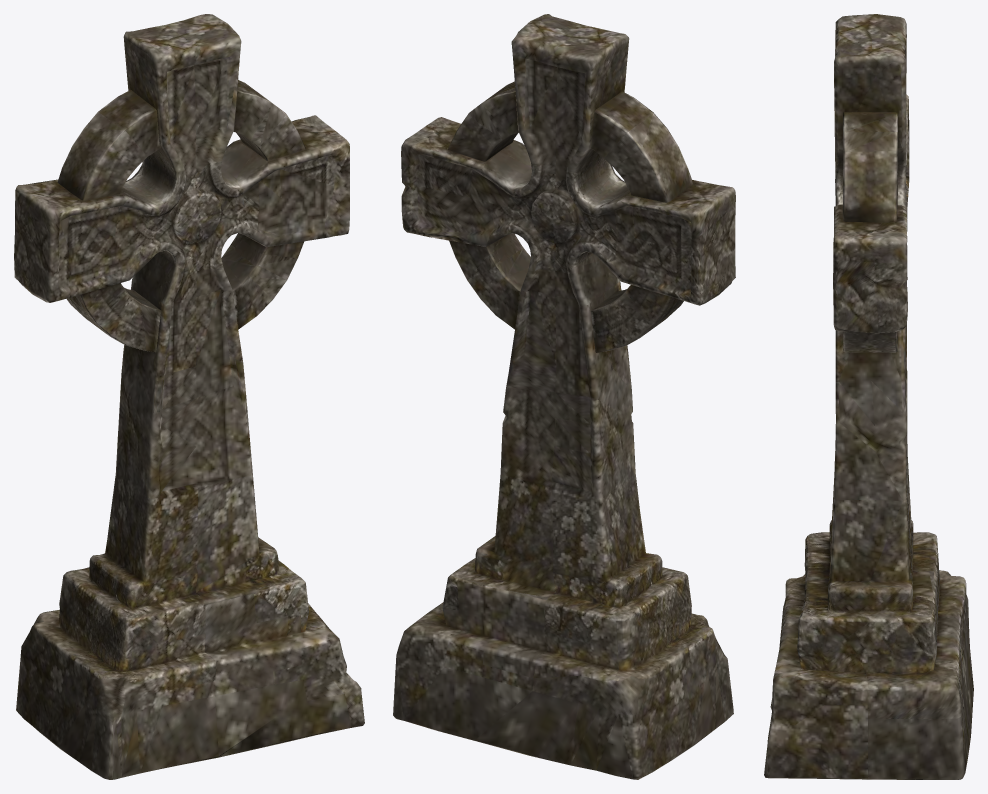
File: h_gravemarker_B.glb
The picture shows the model from 3 angles, left to right: view 1: azimuth 30°, elevation 25°; view 2: azimuth 150°, elevation 25°; view 3: azimuth 270°, elevation 25°; orthographic projection.
Parts seen in each view (by area): view 1: h_gravemarker_B; view 2: h_gravemarker_B; view 3: h_gravemarker_B.
Boxes of the visible parts, box(x1,y1,x2,y2) form: h_gravemarker_B: box(14, 14, 364, 779); h_gravemarker_B: box(393, 14, 735, 779); h_gravemarker_B: box(764, 14, 973, 779).
Size of the model in its own units: 0.5479 by 1.18 by 0.3293.
1 material, 1 textured.
